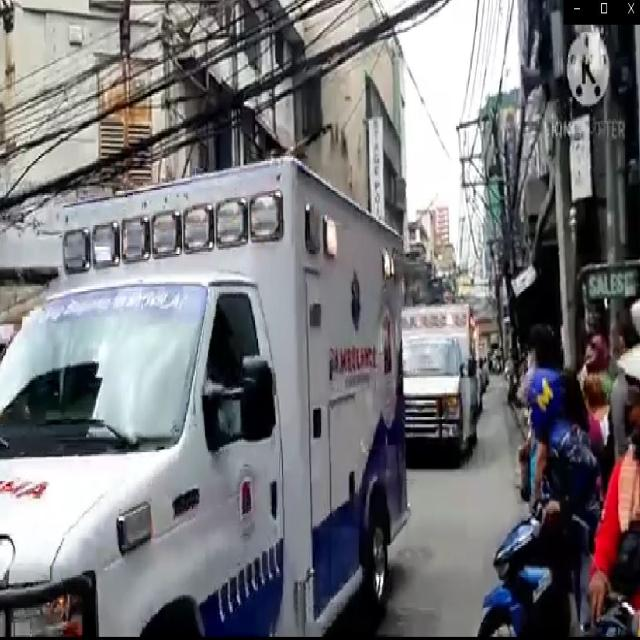emergency: (1, 146, 407, 640), (386, 286, 481, 484)
